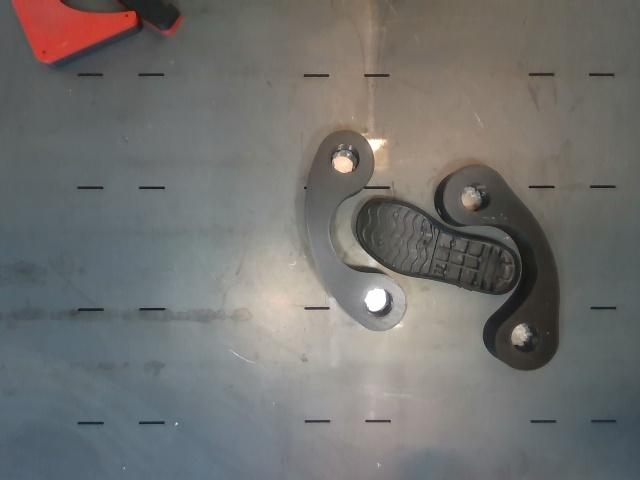shoes: (357, 201, 519, 295)
